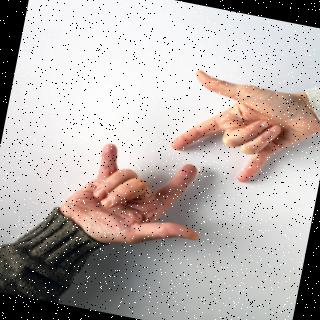I Love You: (72, 140, 221, 262), (178, 55, 310, 187)
